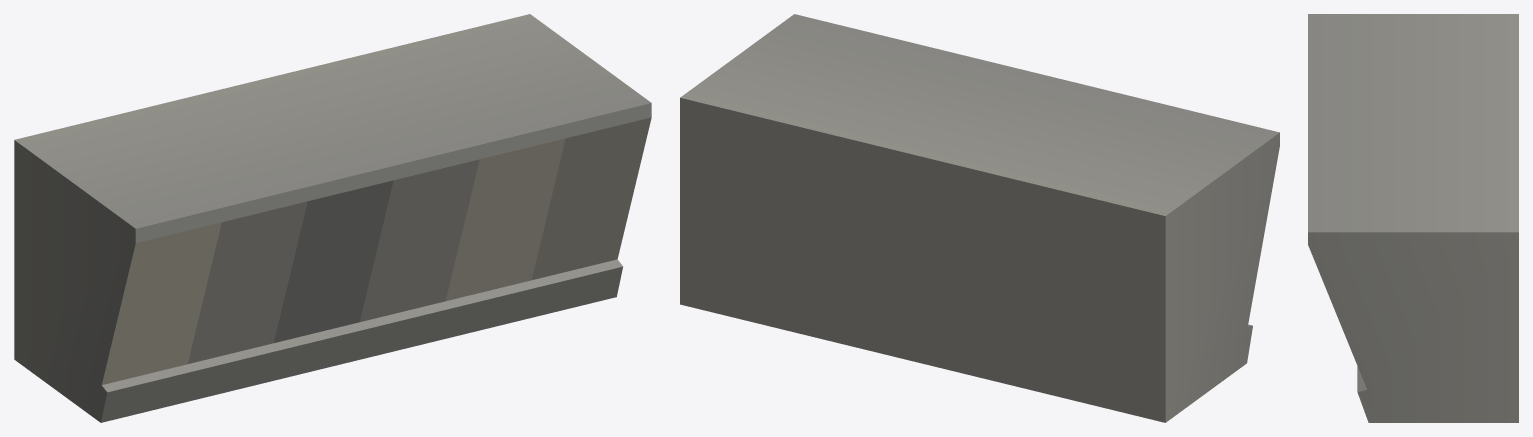
Rendered from B02_intersection_etage_2.fbx.
The picture shows the model from 3 angles, left to right: view 1: azimuth 30°, elevation 25°; view 2: azimuth 150°, elevation 25°; view 3: azimuth 270°, elevation 25°; orthographic projection. The views are drawn at different scales.
Parts seen in each view (by area): view 1: B02_intersection_etage_2; view 2: B02_intersection_etage_2; view 3: B02_intersection_etage_2.
Part boxes in pixels (bbox=[...]): B02_intersection_etage_2: bbox=[14, 14, 651, 422]; B02_intersection_etage_2: bbox=[680, 14, 1279, 422]; B02_intersection_etage_2: bbox=[1308, 14, 1518, 422].
Bounding box in the file's own units: 375 × 153 × 153.
